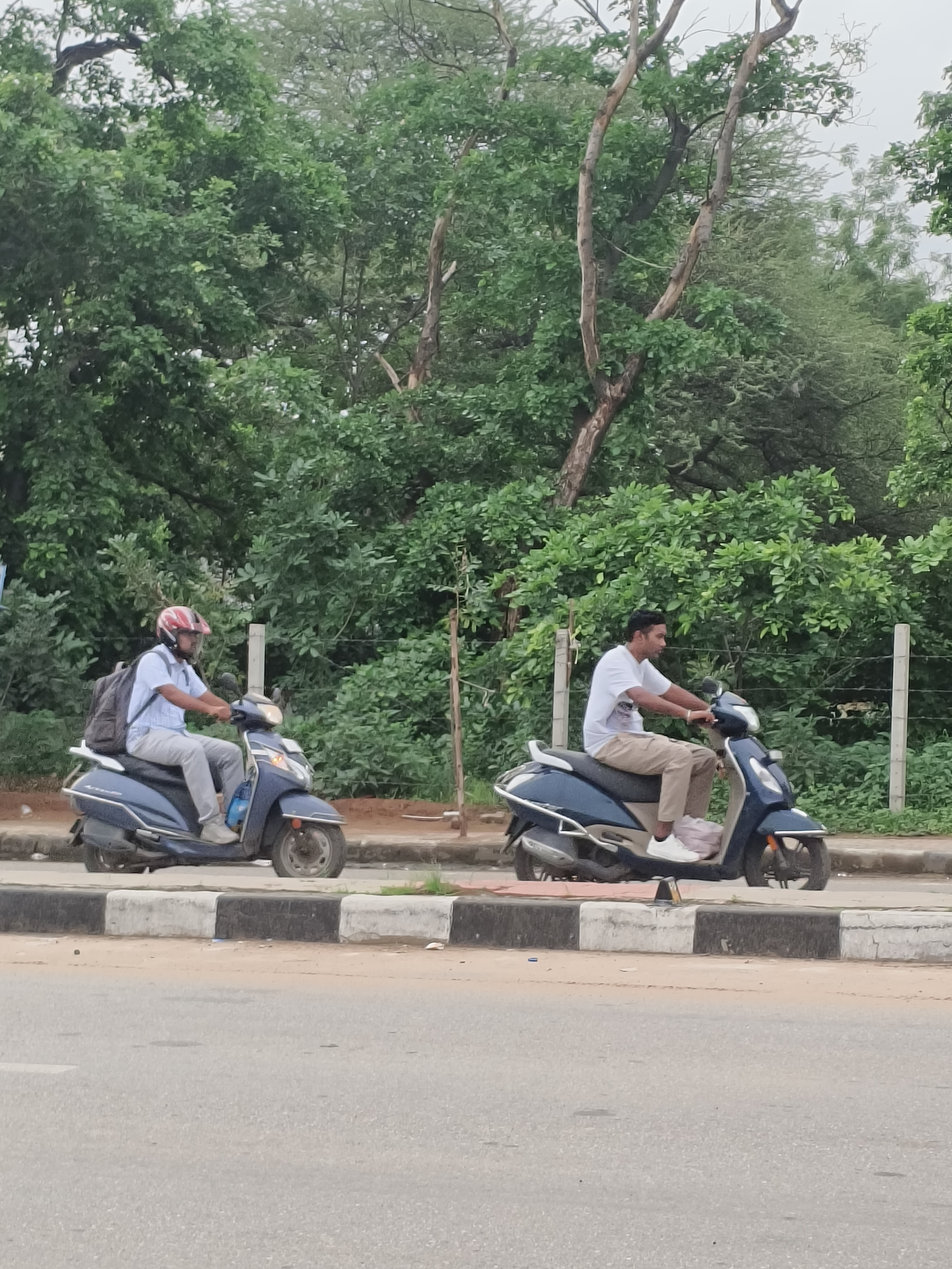BikeWithRider: (483, 602, 844, 905), (50, 601, 357, 887)
Helmet: (148, 599, 216, 661)
NoHelmet: (616, 604, 683, 668)
